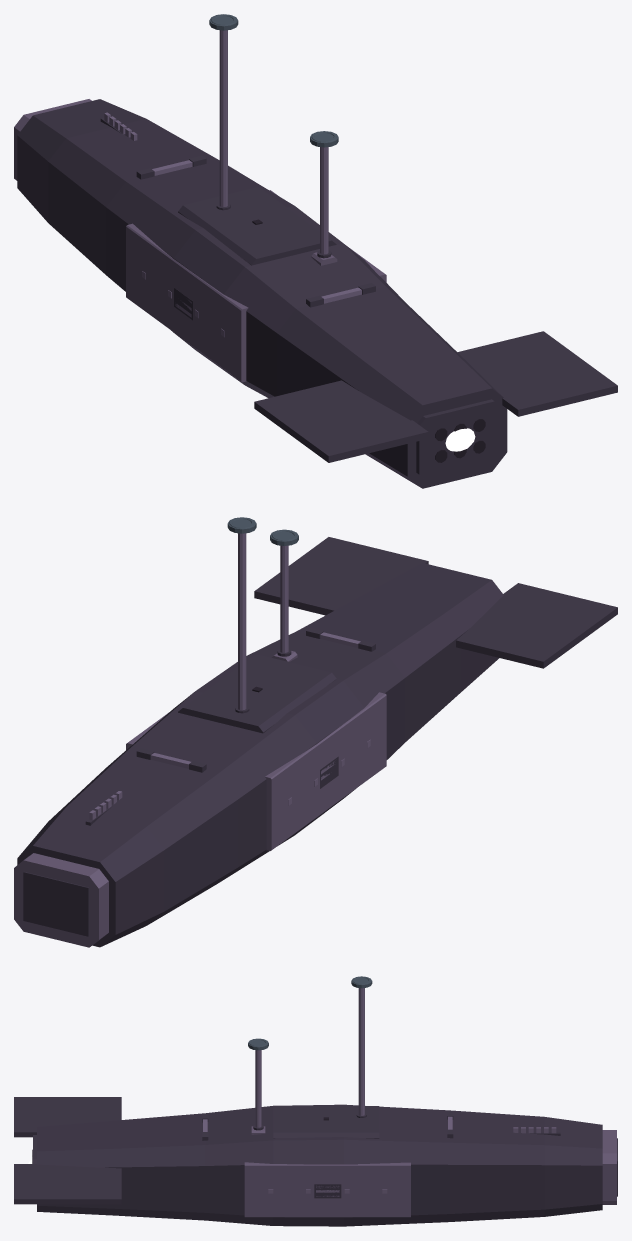
3 renders of one model, top to bottom at view 1: azimuth 30°, elevation 25°; view 2: azimuth 150°, elevation 25°; view 3: azimuth 270°, elevation 25°, orthographic. The views are drawn at different scales.
Parts seen in each view (by area): view 1: RIMWARD_HULL; view 2: RIMWARD_HULL; view 3: RIMWARD_HULL.
Boxes of the visible parts, left/top/right/bottom form: RIMWARD_HULL: left=14, top=14, right=617, bottom=488; RIMWARD_HULL: left=14, top=517, right=617, bottom=947; RIMWARD_HULL: left=14, top=976, right=617, bottom=1226.
Bounding box in the file's own units: 6.96 × 7.25 × 17.4.
